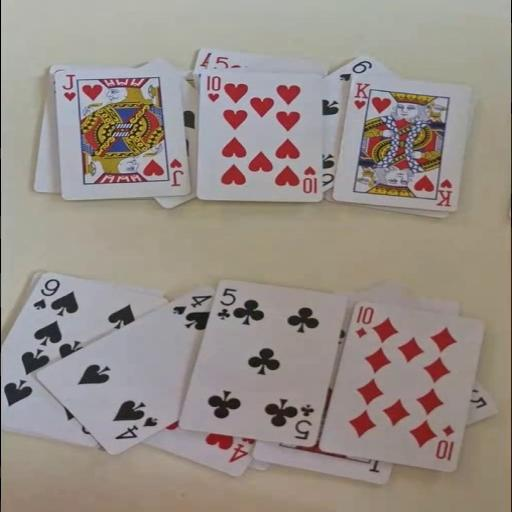10: (433, 422, 457, 462), (354, 303, 378, 339), (300, 164, 318, 194), (204, 74, 222, 103)
4: (111, 414, 160, 441), (169, 292, 207, 315)
5: (291, 402, 316, 440), (214, 286, 238, 320)
6: (336, 58, 374, 80)
9: (29, 276, 62, 311)
J: (166, 156, 184, 187), (59, 73, 77, 102)
K: (350, 80, 372, 110), (433, 176, 454, 207)
